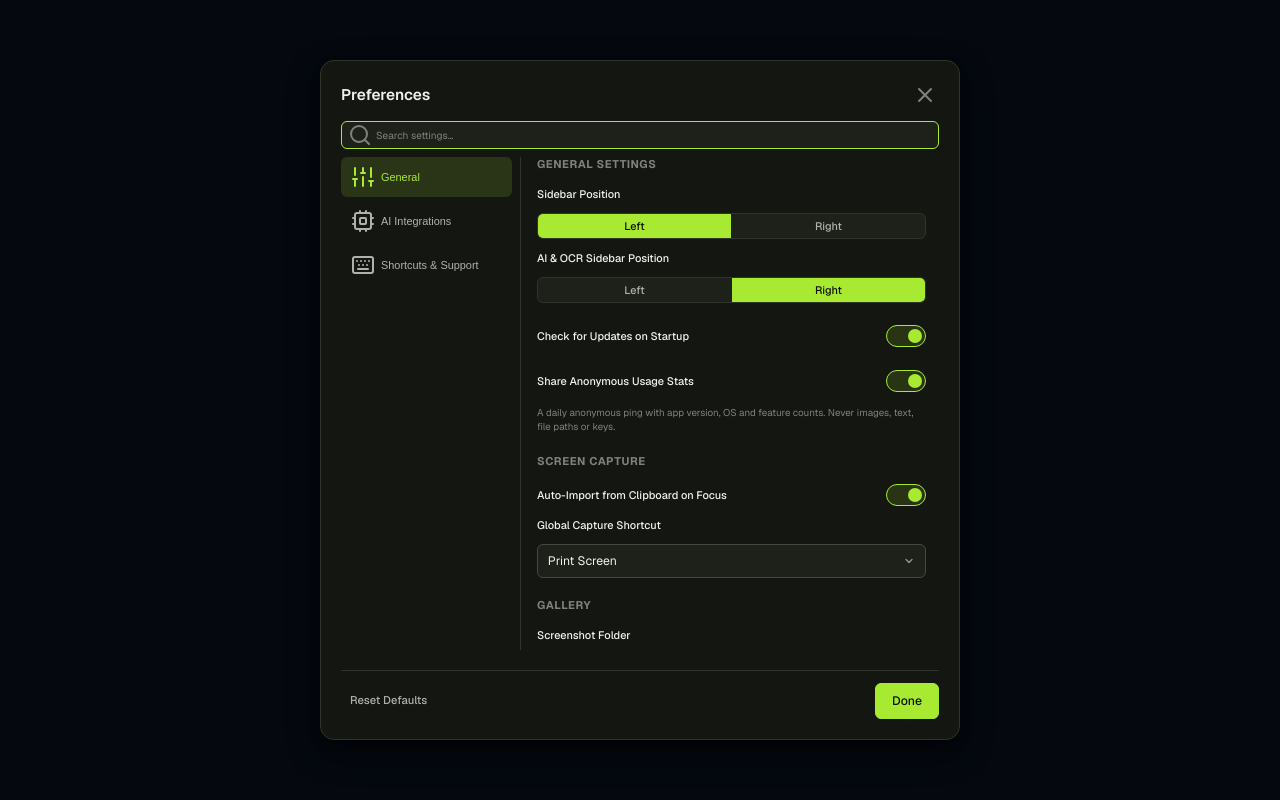
SettingsModal › renders all settings sections
The width and height of the screenshot is (1280, 800).
Click the button "Shortcuts & Support".
click(426, 265)  # box [341, 245, 512, 285]
(page scrolled)
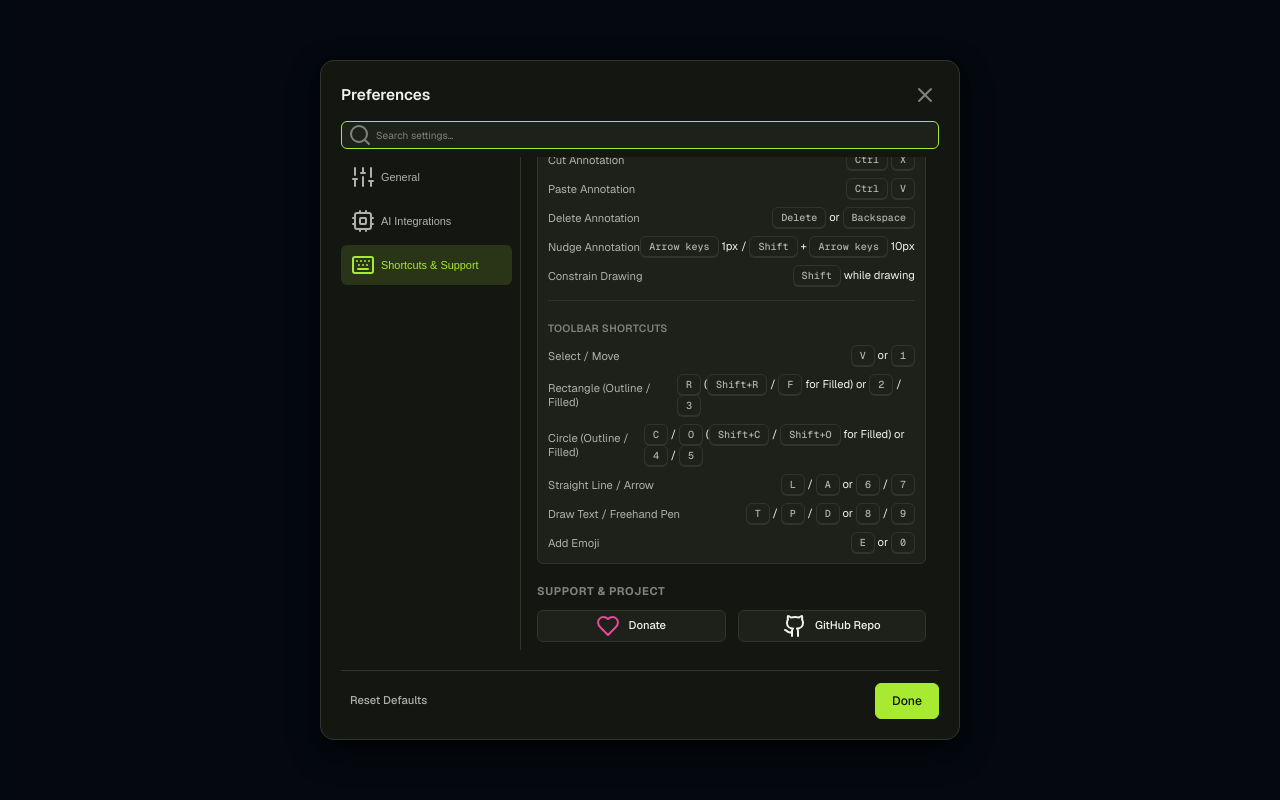
Now the heading "Support & Project" is shown, box [537, 584, 665, 598]
